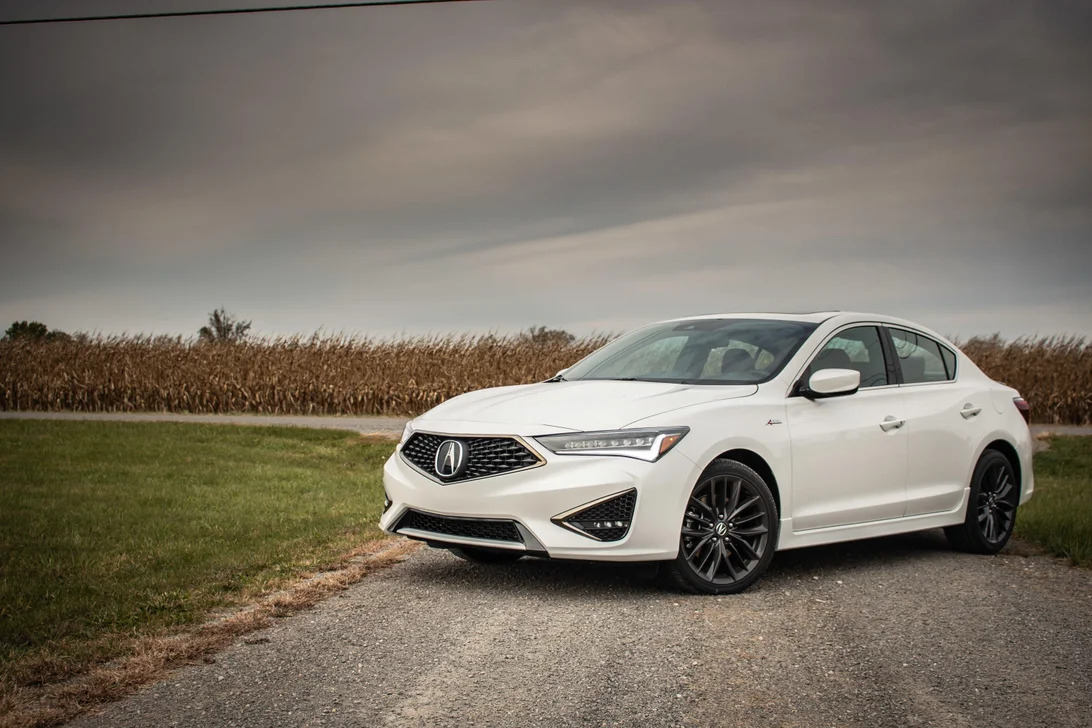Fog Lamp & Scope: (566, 499, 638, 538)
Front: (372, 388, 752, 556)
Front Bumper: (381, 487, 677, 557)
Grill: (401, 441, 534, 480)
Headlight: (548, 426, 691, 461)
